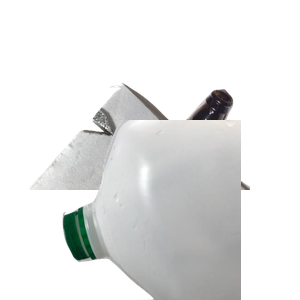glass: (130, 87, 300, 267)
paper: (10, 10, 250, 190)
plastic: (60, 120, 300, 300)
trash: (105, 152, 280, 300)
